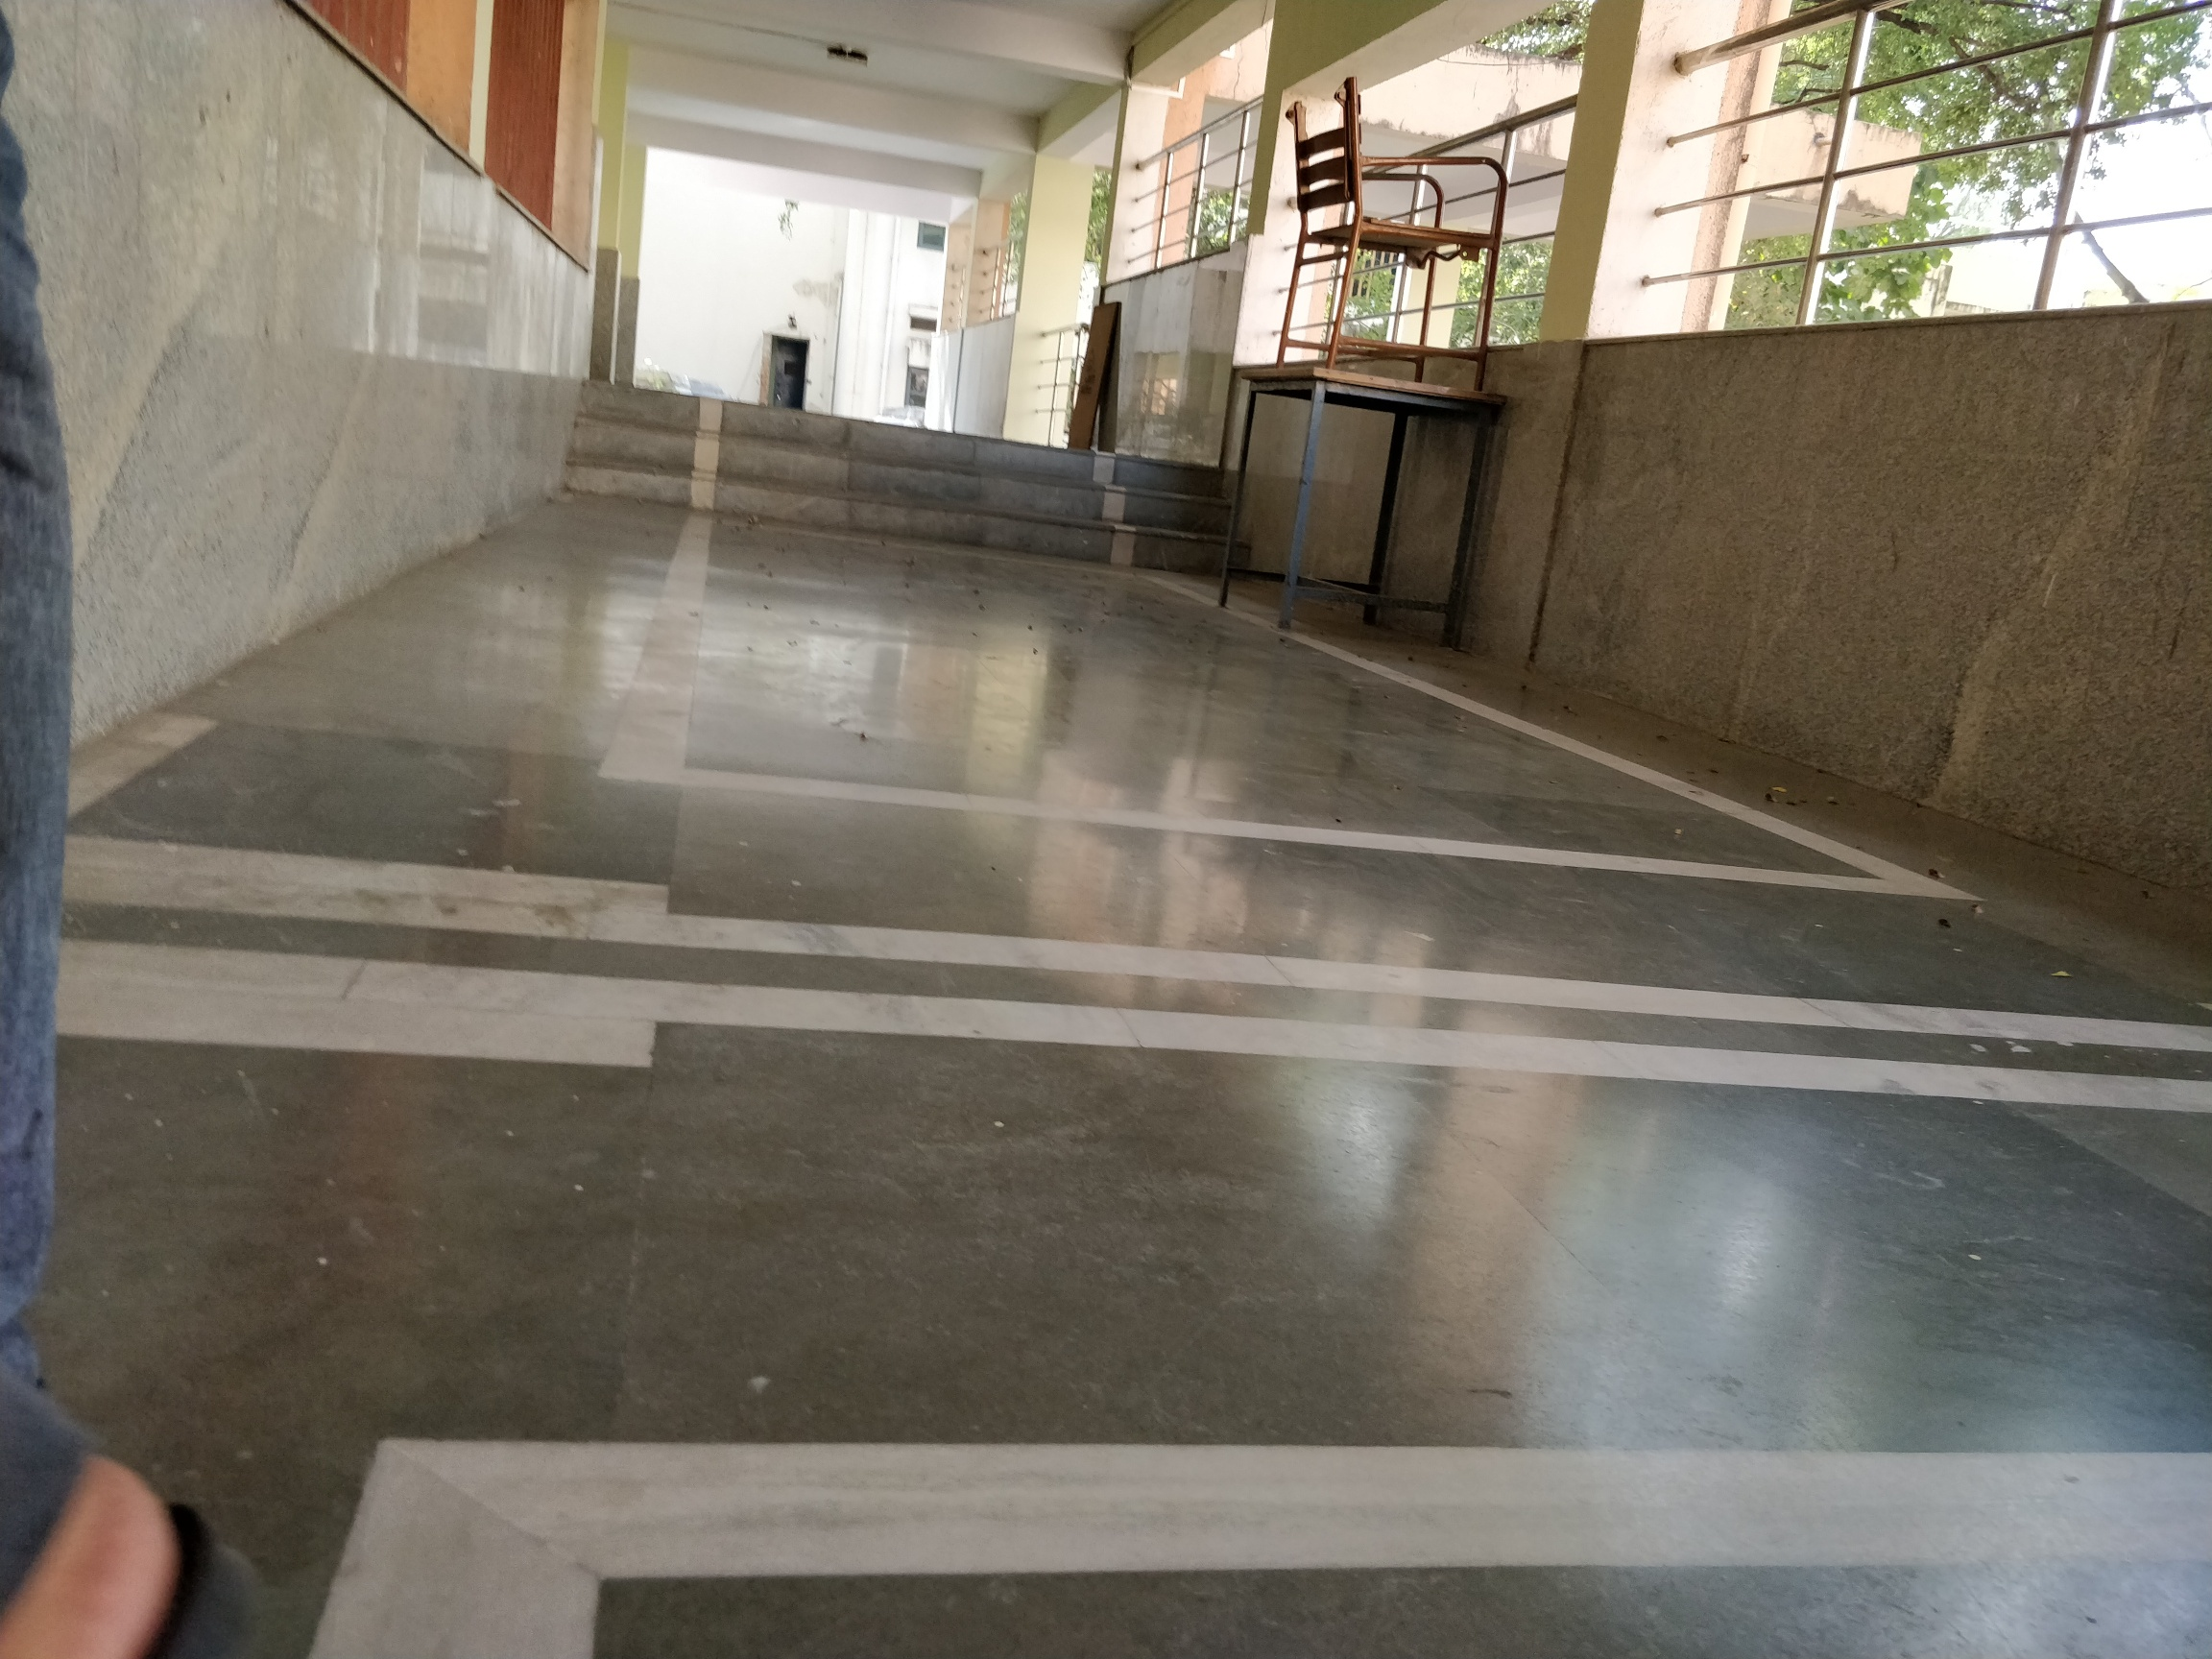stairs_up: (550, 359, 1277, 608)
